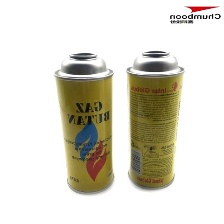aerosol_cans: (51, 48, 116, 196), (124, 47, 187, 192)
